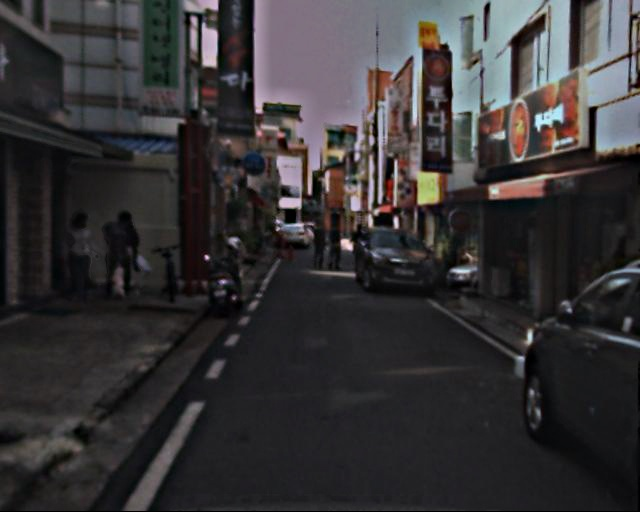person: (63, 210, 111, 301), (108, 207, 147, 294), (349, 224, 369, 273), (311, 225, 331, 273), (327, 226, 345, 271)
